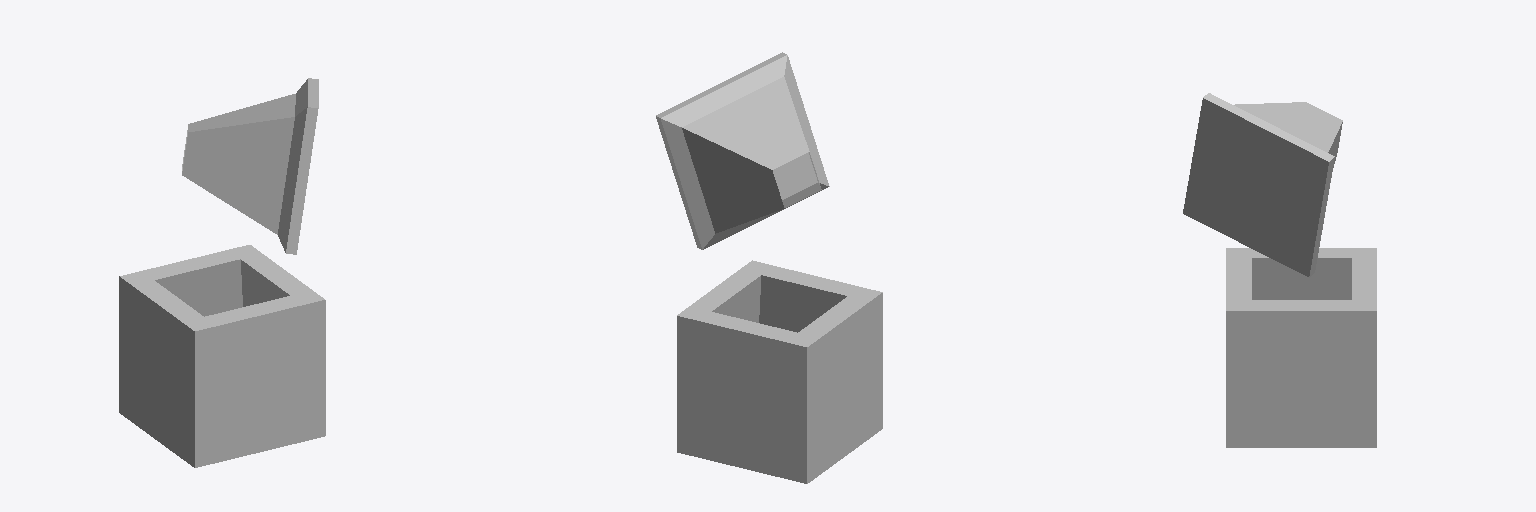
Rendered from AnimatedBox_000078.obj.
3 views of the same model, side by side, from view 1: azimuth 30°, elevation 25°; view 2: azimuth 150°, elevation 25°; view 3: azimuth 270°, elevation 25° (orthographic).
Visible parts, largest first — view 1: Cube, Cube.001; view 2: Cube, Cube.001; view 3: Cube, Cube.001.
Boxes of the visible parts, x1=… form: Cube: x1=119, y1=245, x2=325, y2=467; Cube.001: x1=182, y1=78, x2=318, y2=254; Cube: x1=677, y1=260, x2=882, y2=483; Cube.001: x1=656, y1=52, x2=829, y2=249; Cube: x1=1226, y1=248, x2=1376, y2=447; Cube.001: x1=1183, y1=93, x2=1342, y2=277.
Bounding box in the file's own units: 2.69 × 5.01 × 2.58.